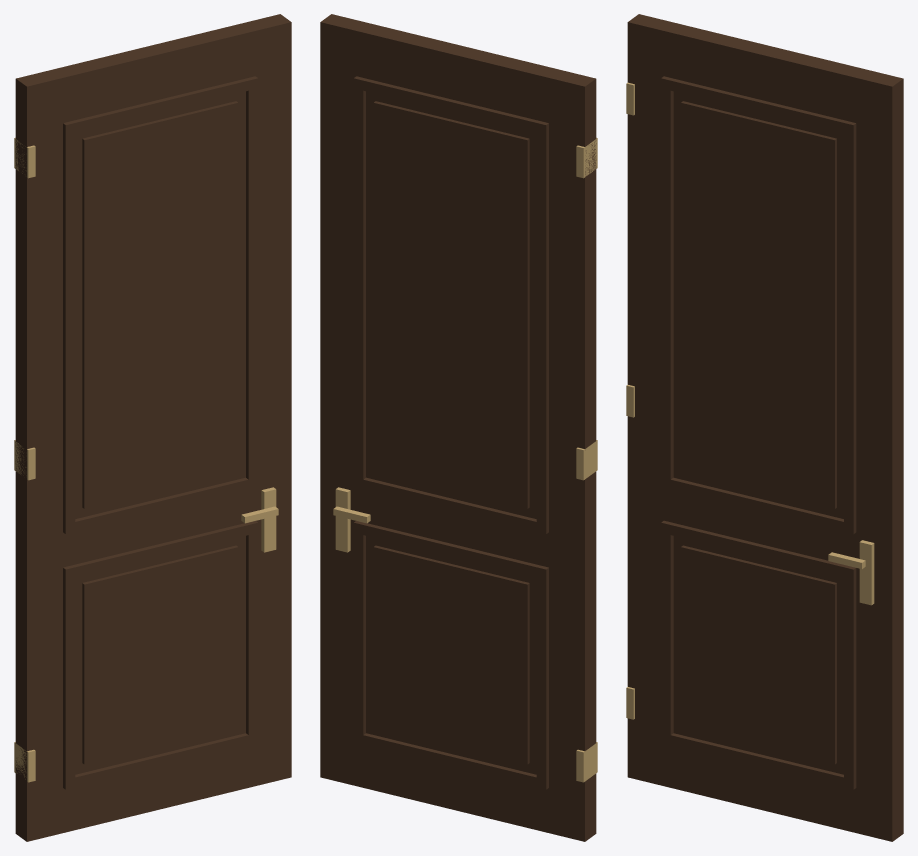
Rendered from SM_Kapi_Ic_Dar.fbx.
3 renders of one model, left to right at view 1: azimuth 30°, elevation 25°; view 2: azimuth 150°, elevation 25°; view 3: azimuth 330°, elevation 25°, orthographic.
Parts seen in each view (by area): view 1: Kapi_Ic_Dar; view 2: Kapi_Ic_Dar; view 3: Kapi_Ic_Dar.
Part boxes in pixels (x1,y1,x2,y2): Kapi_Ic_Dar: (14, 14, 291, 841); Kapi_Ic_Dar: (320, 14, 597, 841); Kapi_Ic_Dar: (626, 14, 903, 841).
Bounding box in the file's own units: 110 × 300 × 20.5.
